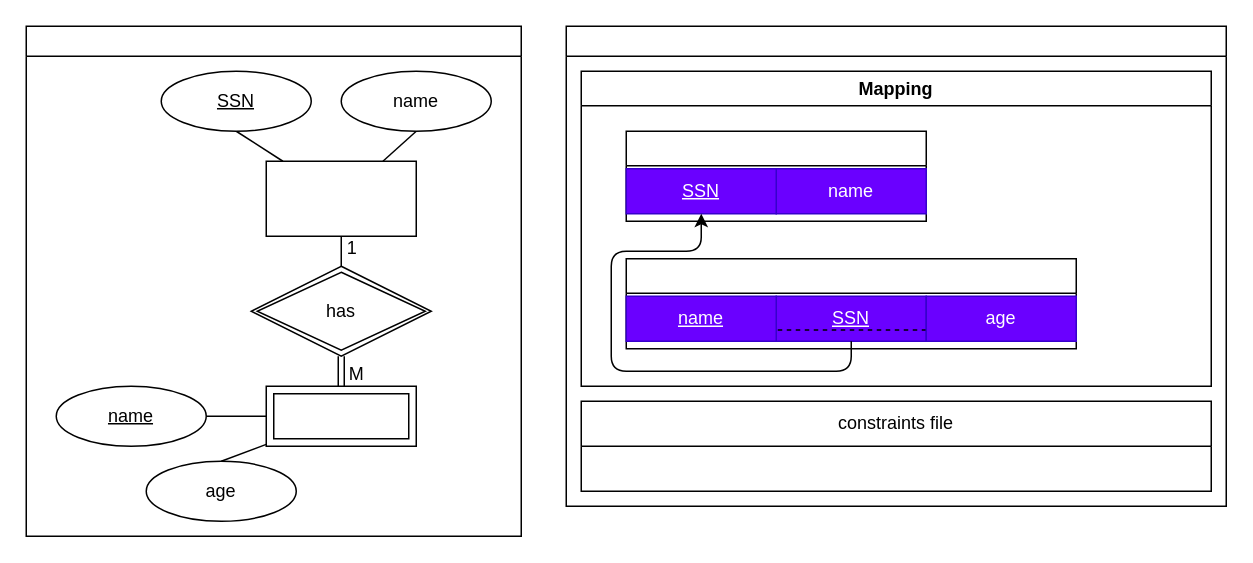
Image size: 1253x563. Some labels were removed from this diagram. The shapes that lost their labels are listed below. From the top down, each one's box as (x1, y1, x2, y2) in pixels, then its label:
(625, 130, 926, 221): employee table
(265, 160, 416, 236): employee
(25, 25, 521, 536): Entity relationship diagram
(565, 25, 1226, 506): DB Mapping
(625, 257, 1076, 349): dependent table
(265, 385, 416, 446): dependent
